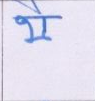o_matra: (36, 4, 52, 38)
